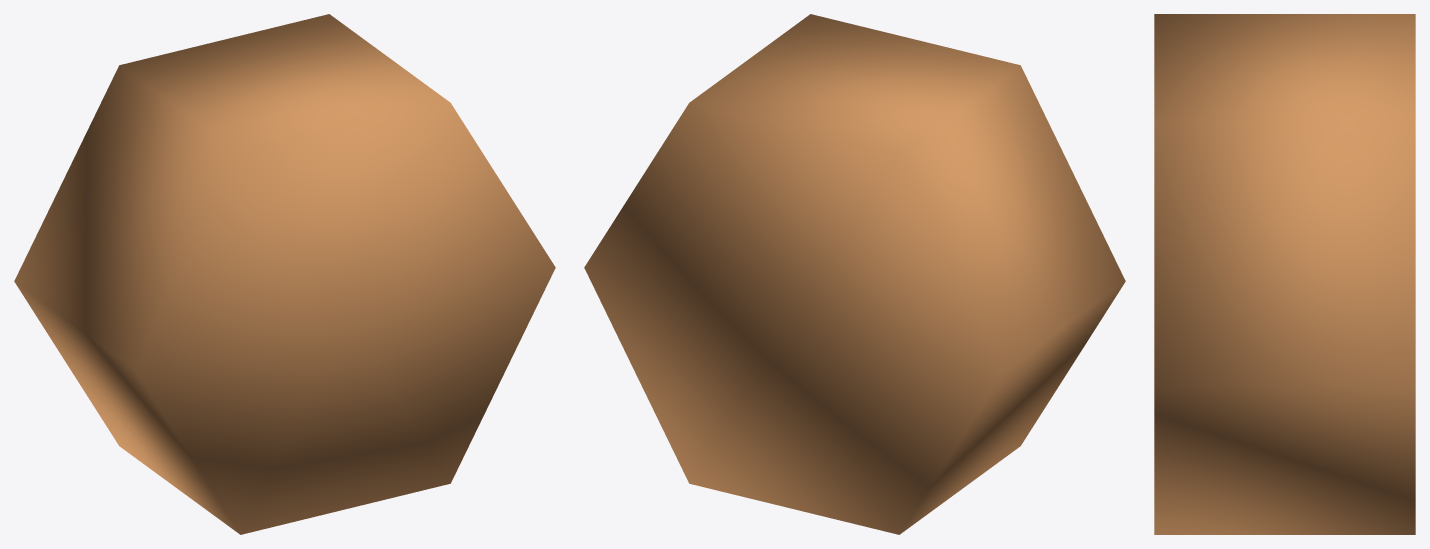
Rendered from plant_carrot_seed.glb.
3 renders of one model, left to right at view 1: azimuth 30°, elevation 25°; view 2: azimuth 150°, elevation 25°; view 3: azimuth 270°, elevation 25°, orthographic. The views are drawn at different scales.
Visible parts, largest first — view 1: seed; view 2: seed; view 3: seed.
Boxes of the visible parts, <box> form: seed: <box>14,14,555,534</box>; seed: <box>584,14,1125,534</box>; seed: <box>1154,14,1415,534</box>.
Size of the model in its own units: 0.04 by 0.0346 by 0.02.
